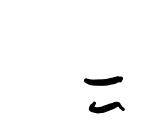eqv: (84, 76, 125, 113)
